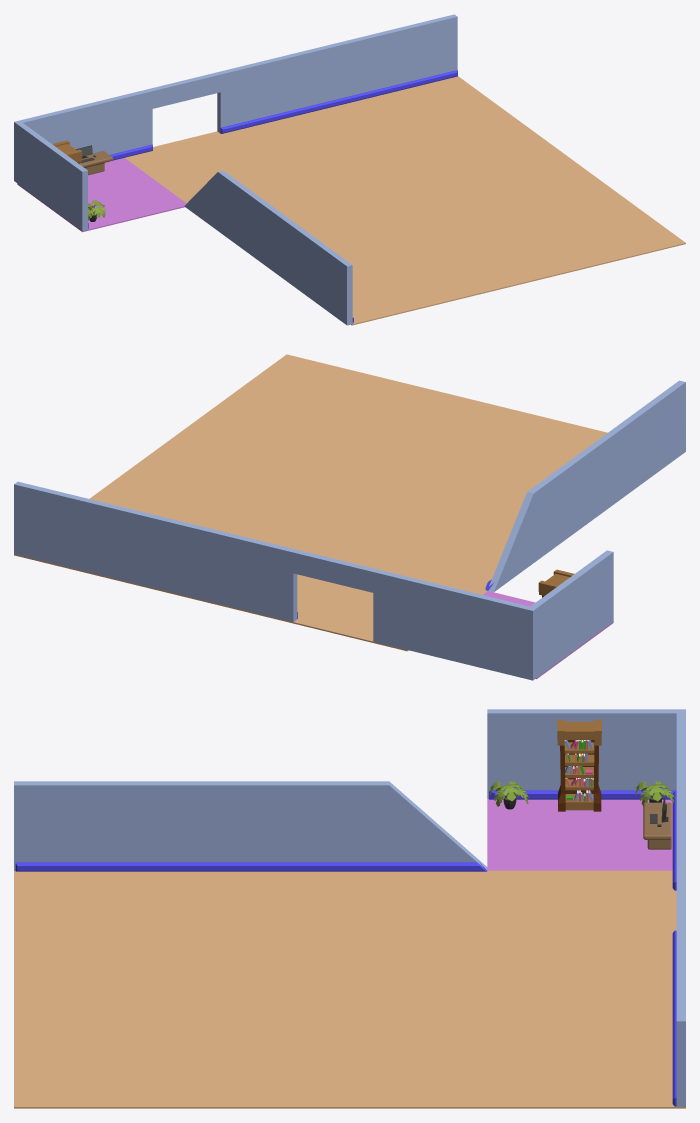
3 views of the same model, one above another, from view 1: azimuth 30°, elevation 25°; view 2: azimuth 150°, elevation 25°; view 3: azimuth 270°, elevation 25° (orthographic). The views are drawn at different scales.
Parts seen in each view (by area): view 1: Plane, Plane.003, Plane.005; view 2: Plane, Plane.003, Plane.005; view 3: Plane, Plane.003, Plane.005.
Part boxes in pixels (left/top/right/bottom): Plane: left=125, top=76, right=685, bottom=325; Plane.003: left=14, top=72, right=353, bottom=325; Plane.005: left=217, top=14, right=457, bottom=133; Plane: left=14, top=354, right=607, bottom=651; Plane.003: left=293, top=380, right=685, bottom=680; Plane.005: left=14, top=481, right=297, bottom=621; Plane: left=14, top=870, right=685, bottom=1108; Plane.003: left=14, top=709, right=685, bottom=890; Plane.005: left=672, top=853, right=685, bottom=1106.
Bounding box in the file's own units: 39 × 5.1 × 35.5.
